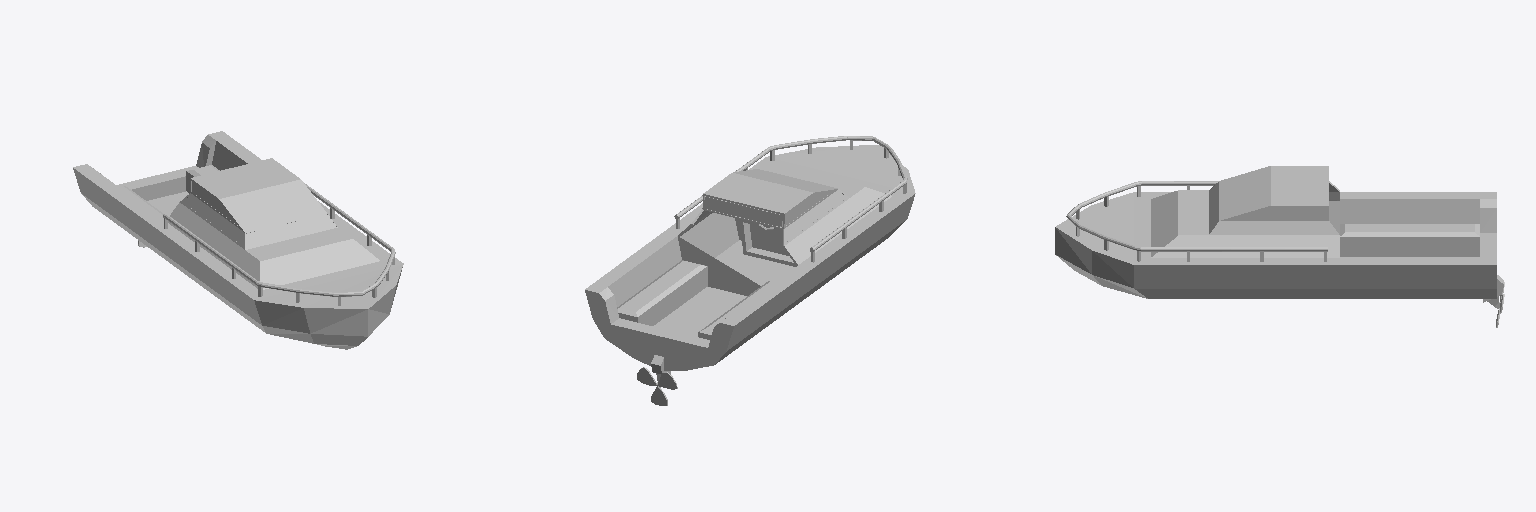
Rendered from Barco.obj.
3 renders of one model, left to right at view 1: azimuth 30°, elevation 25°; view 2: azimuth 150°, elevation 25°; view 3: azimuth 270°, elevation 25°, orthographic.
Visible parts, largest first — view 1: Fisher_Boat_Cube.023; view 2: Fisher_Boat_Cube.023; view 3: Fisher_Boat_Cube.023.
Part boxes in pixels (x1,y1,x2,y2): Fisher_Boat_Cube.023: (73, 131, 403, 349); Fisher_Boat_Cube.023: (585, 136, 915, 405); Fisher_Boat_Cube.023: (1055, 166, 1504, 327).
Bounding box in the file's own units: 2.23 × 2 × 5.8.